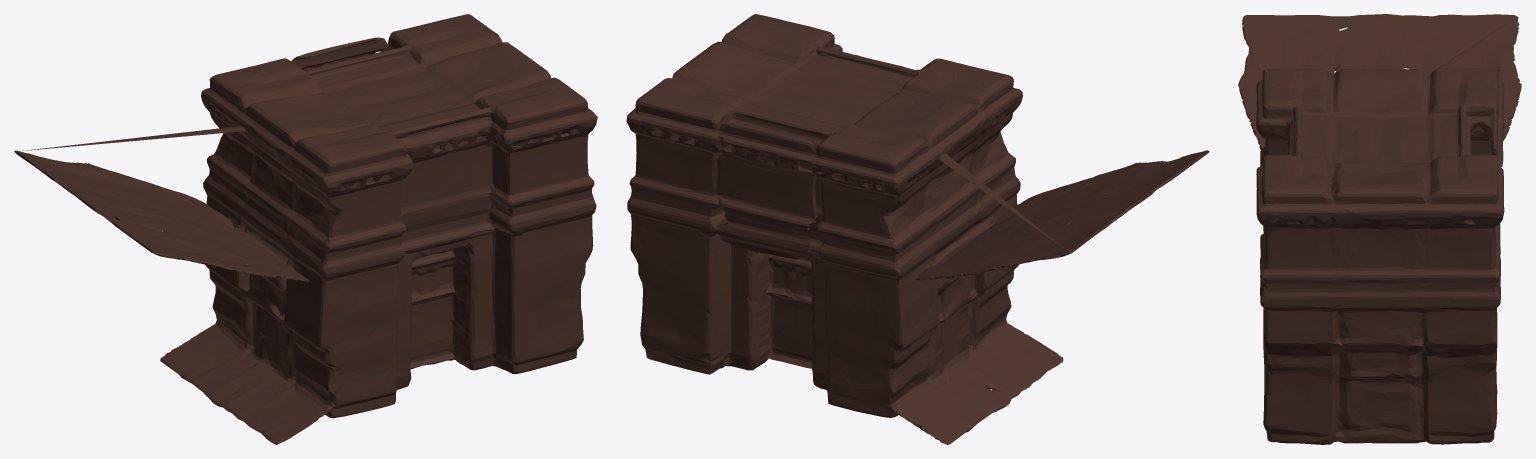
File: Entrance Gateways.glb
3 renders of one model, left to right at view 1: azimuth 30°, elevation 25°; view 2: azimuth 150°, elevation 25°; view 3: azimuth 270°, elevation 25°, orthographic.
Parts seen in each view (by area): view 1: tmpj06wjg3m.ply; view 2: tmpj06wjg3m.ply; view 3: tmpj06wjg3m.ply.
Boxes of the visible parts, bbox=[...] form: tmpj06wjg3m.ply: bbox=[14, 14, 597, 444]; tmpj06wjg3m.ply: bbox=[626, 14, 1209, 444]; tmpj06wjg3m.ply: bbox=[1238, 14, 1521, 444].
Size of the model in its own units: 1.96 by 1.14 by 1.08.
